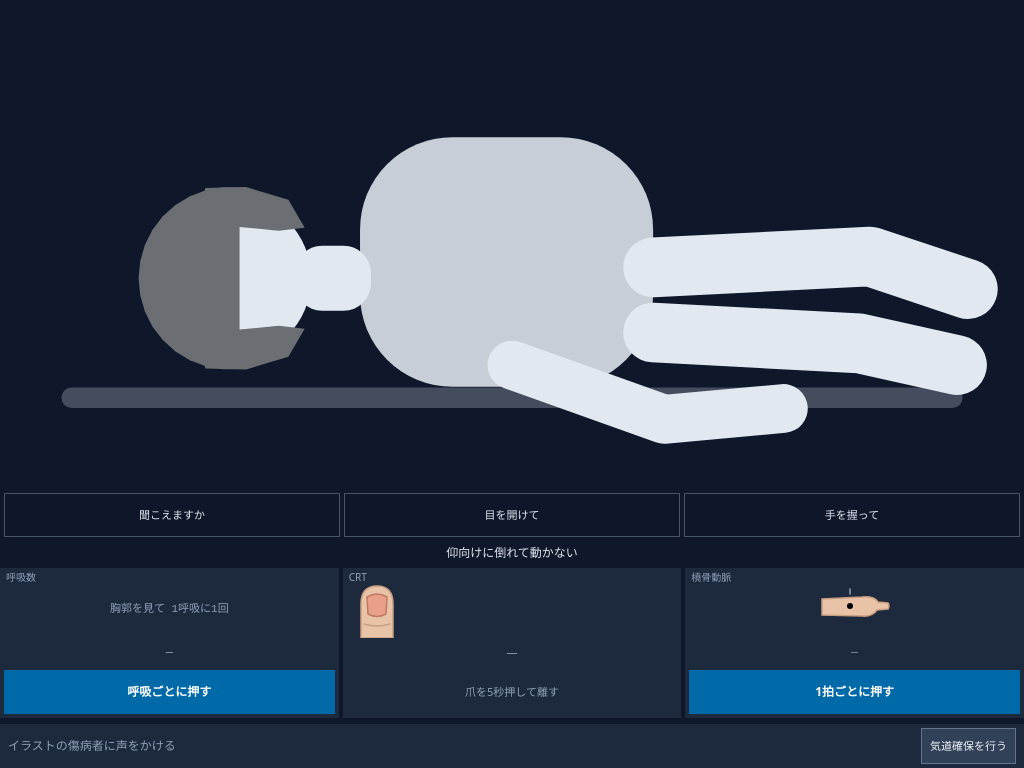
Test case: 気道確保ボタンが答えを漏らさない（docs/OBSERVATION.md §3.1） › 気道確保後も呼吸がない症例は 0類 の手がかりを返す
(page scrolled)
Click the button "気道確保を行う".
click(968, 746)  # box [921,728,1016,764]
(page scrolled)
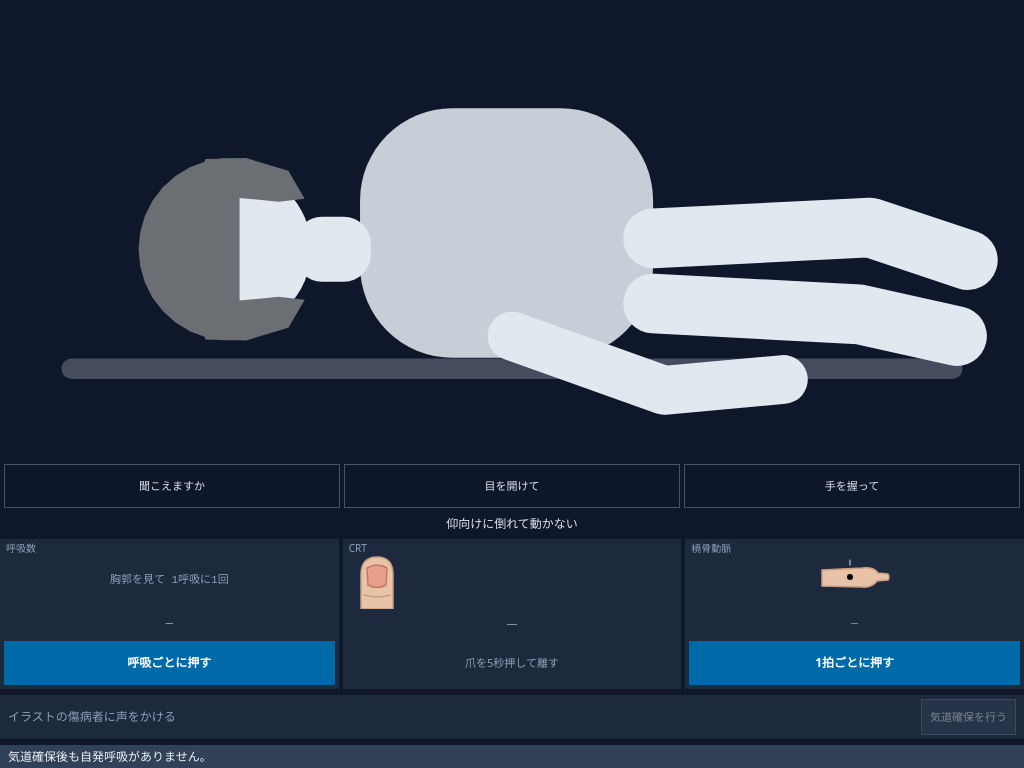
Check: the text "気道確保後も自発呼吸がありません。" is shown, box [0,745,1023,767]
